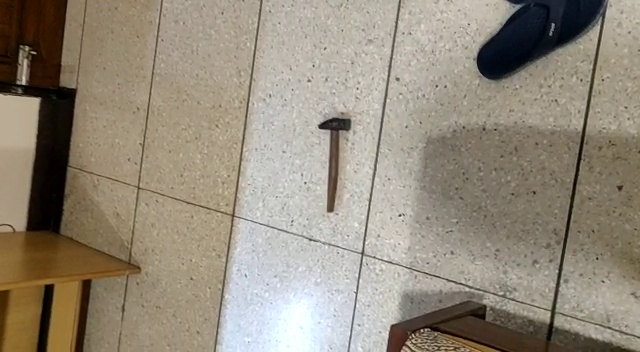hammer: (315, 115, 353, 214)
